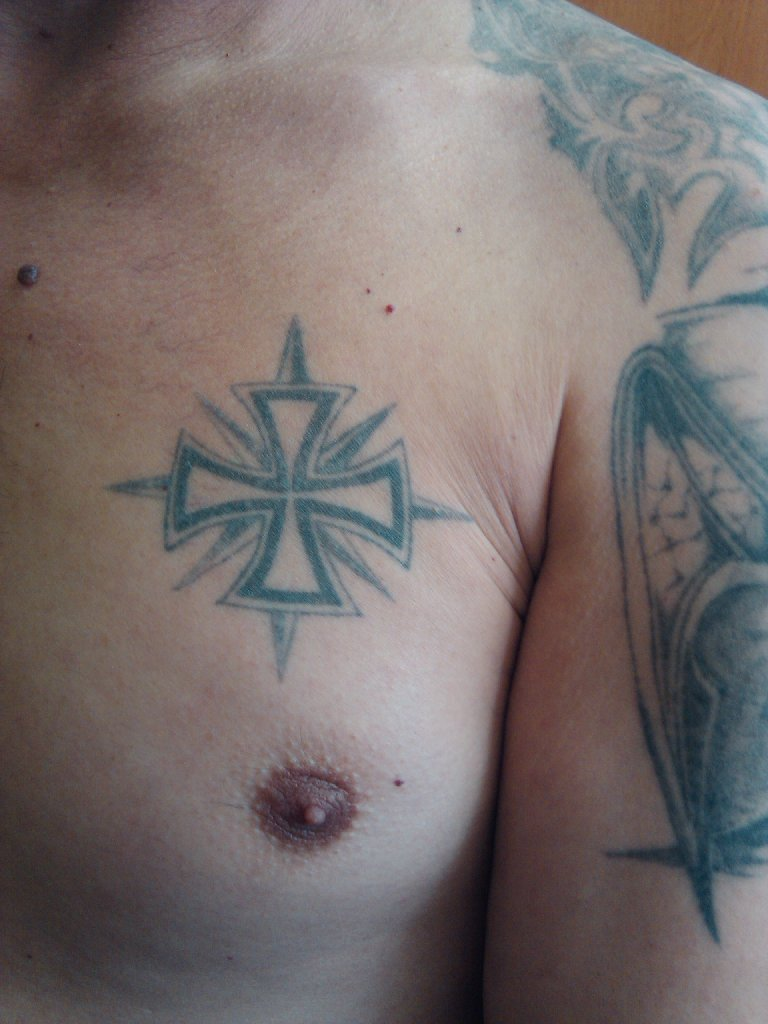tatu9_krest: (96, 300, 487, 701)
